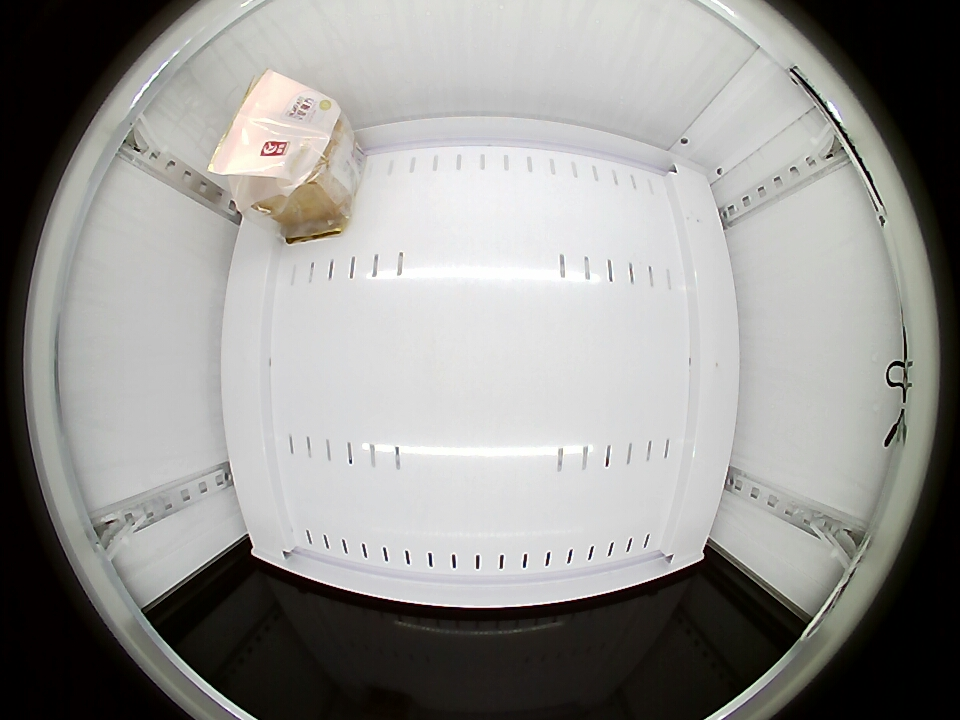zaocanmofang: (209, 68, 346, 216)
